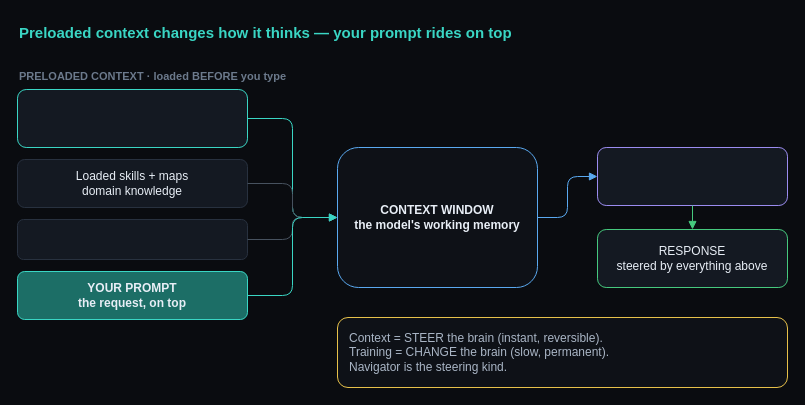
The diagram is 805 pixels wide and 405 high, and some of its shapes have lost their labels. The box of each missing label's shape, as (x1, y1, x2, y2) in pixels:
Conversation history: (16, 218, 248, 260)
MODEL the brain — weights UNCHANGED: (596, 146, 788, 206)
Persona / System file role · voice · rules · knowledge: (16, 88, 248, 148)
